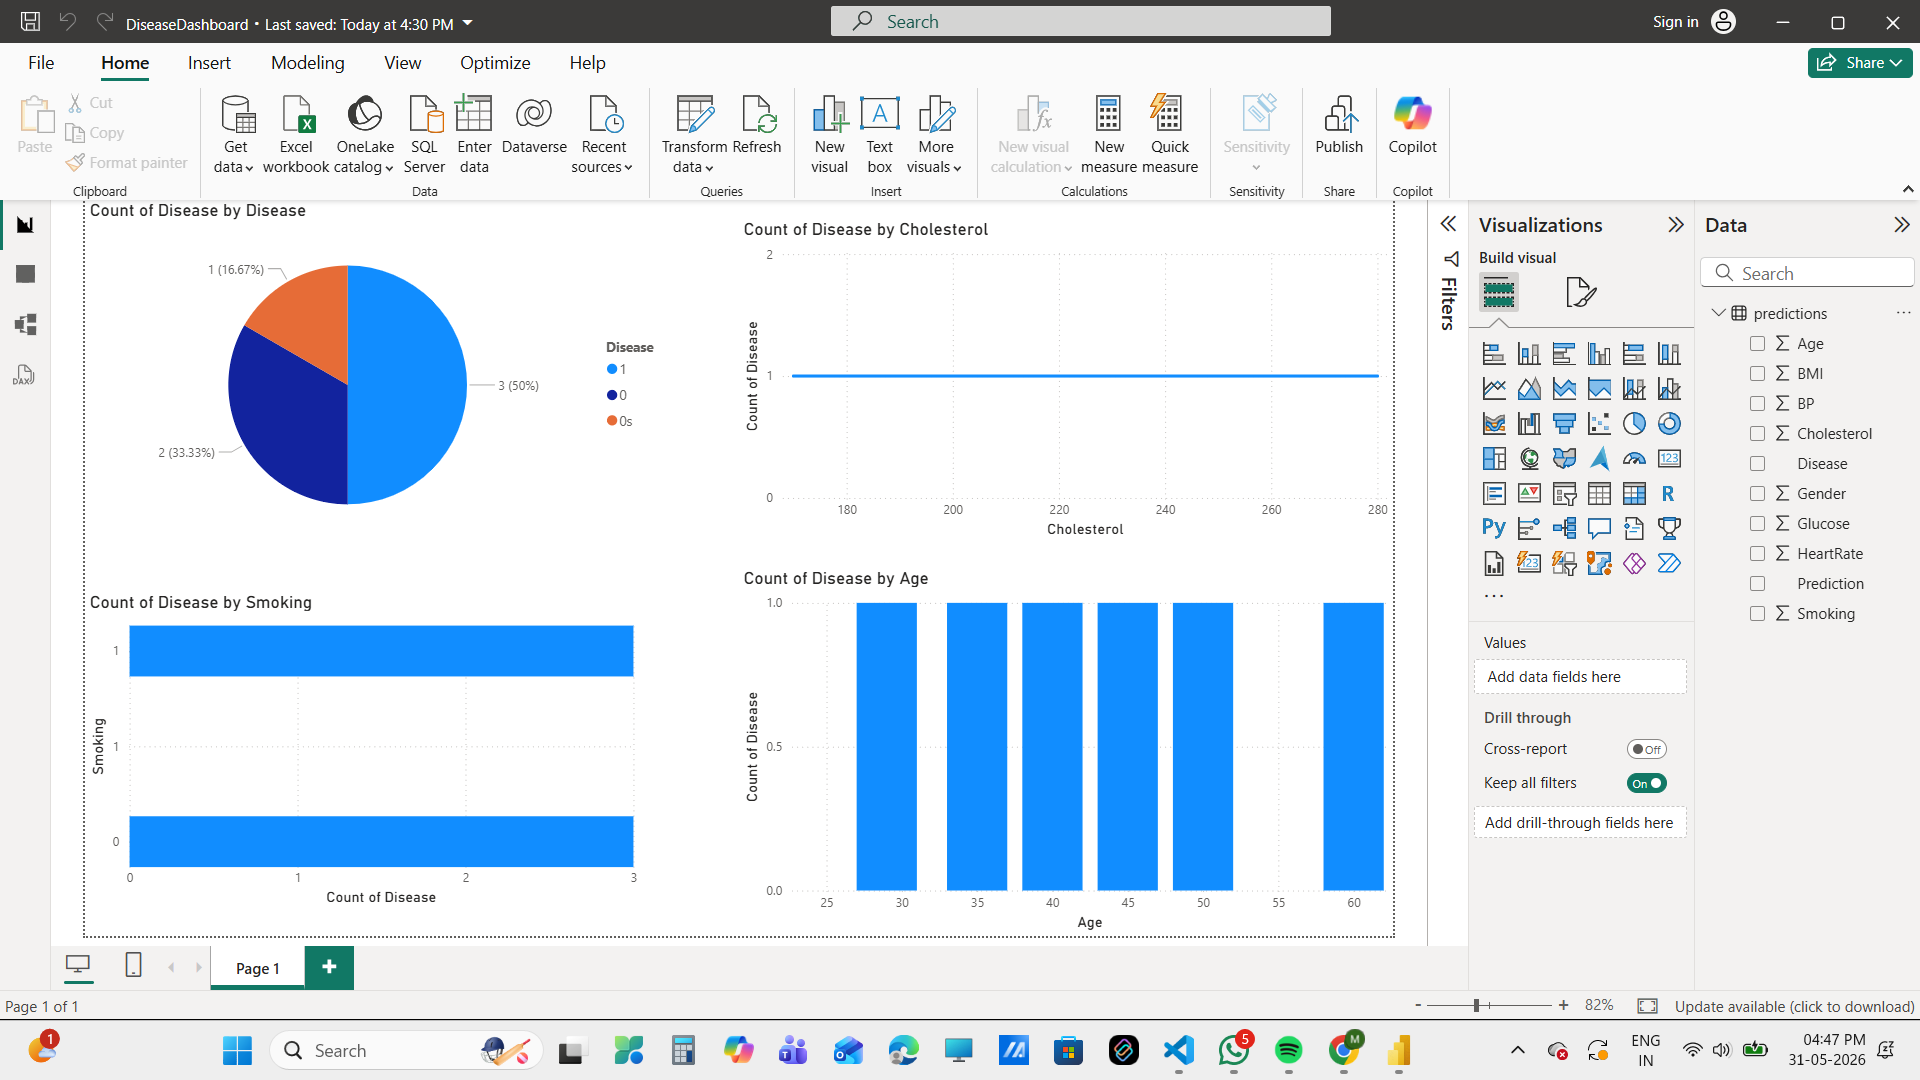

The page's visual inventory and layout, read from the dashboard file:
{"tool":"powerbi","page":{"name":"Page 1","canvas":[1280,720],"ordinal":0},"visuals":[{"type":"pieChart","fields":{"Category":["predictions.Disease"],"Y":["CountNonNull(predictions.Disease)"]},"box":[0,0,581.4,341.4],"z":0},{"type":"clusteredBarChart","fields":{"Category":["predictions.Smoking"],"Y":["CountNonNull(predictions.Disease)"]},"box":[0,382.9,545.7,312.9],"z":1000},{"type":"columnChart","fields":{"Category":["predictions.Age"],"Y":["CountNonNull(predictions.Disease)"]},"box":[640,360,640,360],"z":2000},{"type":"lineChart","fields":{"Category":["predictions.Cholesterol"],"Y":["CountNonNull(predictions.Disease)"]},"box":[640,18.6,640,317.1],"z":3000}]}

Visuals, with their boxes on the page's 1280x720 design canvas (x1, y1, x2, y2). These are canvas units, not pixel positions in the 1920x1080 screenshot, which may show the page scaled, cropped or inside an application window:
pieChart - predictions.Disease x CountNonNull(predictions.Disease): 0:0:581:341
clusteredBarChart - predictions.Smoking x CountNonNull(predictions.Disease): 0:383:546:696
columnChart - predictions.Age x CountNonNull(predictions.Disease): 640:360:1280:720
lineChart - predictions.Cholesterol x CountNonNull(predictions.Disease): 640:19:1280:336
